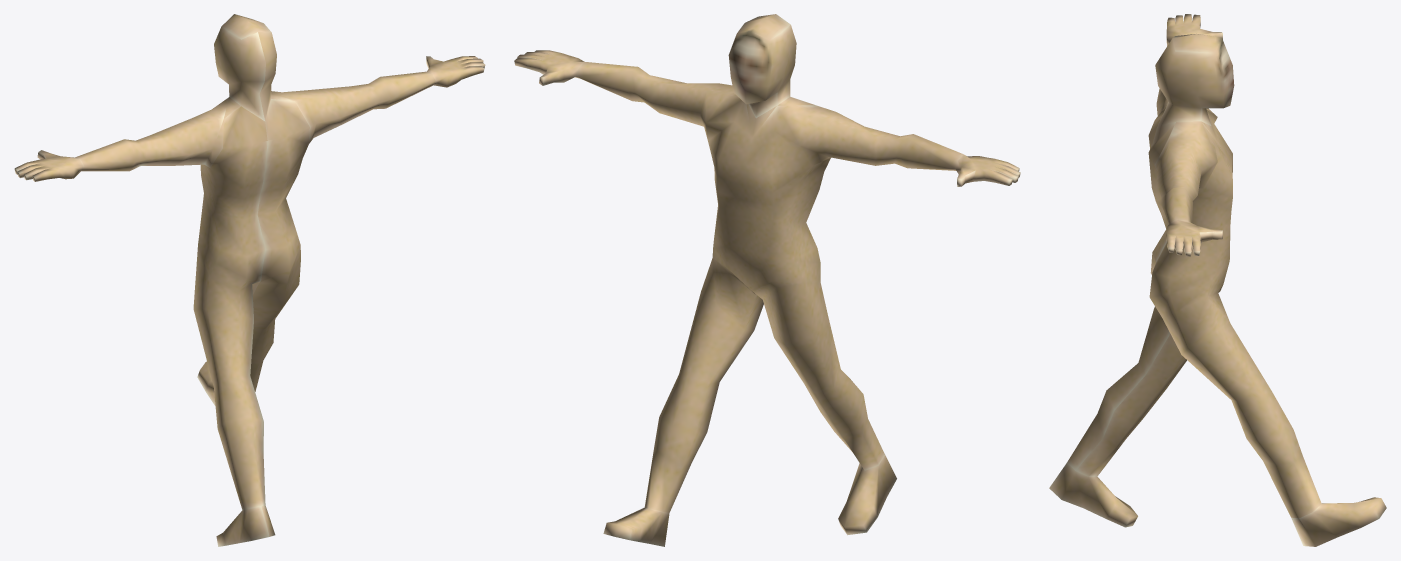
Rendered from human_000003.obj.
The picture shows the model from 3 angles, left to right: view 1: azimuth 30°, elevation 25°; view 2: azimuth 150°, elevation 25°; view 3: azimuth 270°, elevation 25°; orthographic projection. The views are drawn at different scales.
Bounding box in the file's own units: 1.87 × 1.89 × 1.12.
